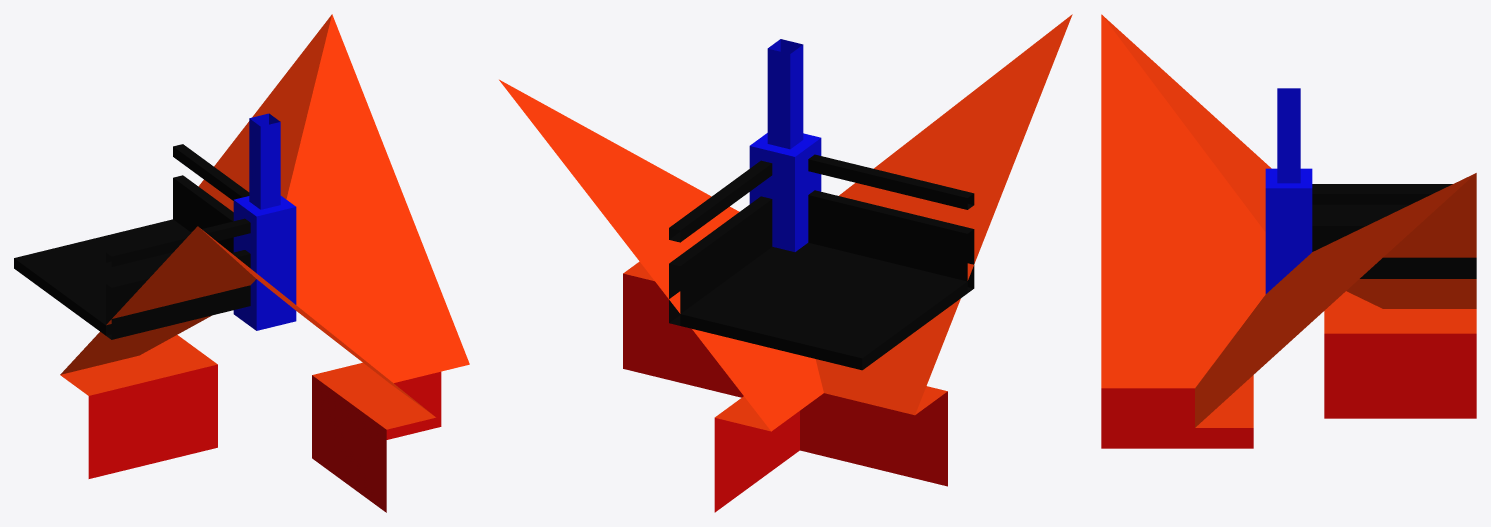
Rendered from None_S_E_E_E_P_S_E_E_BigStrut.fbx.
The picture shows the model from 3 angles, left to right: view 1: azimuth 30°, elevation 25°; view 2: azimuth 150°, elevation 25°; view 3: azimuth 270°, elevation 25°; orthographic projection. The views are drawn at different scales.
Parts seen in each view (by area): view 1: None_S_E_E_E_P_S_E_E_BigStrut; view 2: None_S_E_E_E_P_S_E_E_BigStrut; view 3: None_S_E_E_E_P_S_E_E_BigStrut.
Part boxes in pixels (x1,y1,x2,y2): None_S_E_E_E_P_S_E_E_BigStrut: (14,14,469,512); None_S_E_E_E_P_S_E_E_BigStrut: (499,14,1072,512); None_S_E_E_E_P_S_E_E_BigStrut: (1101,14,1476,448).
Bounding box in the file's own units: 100 × 100 × 100.
